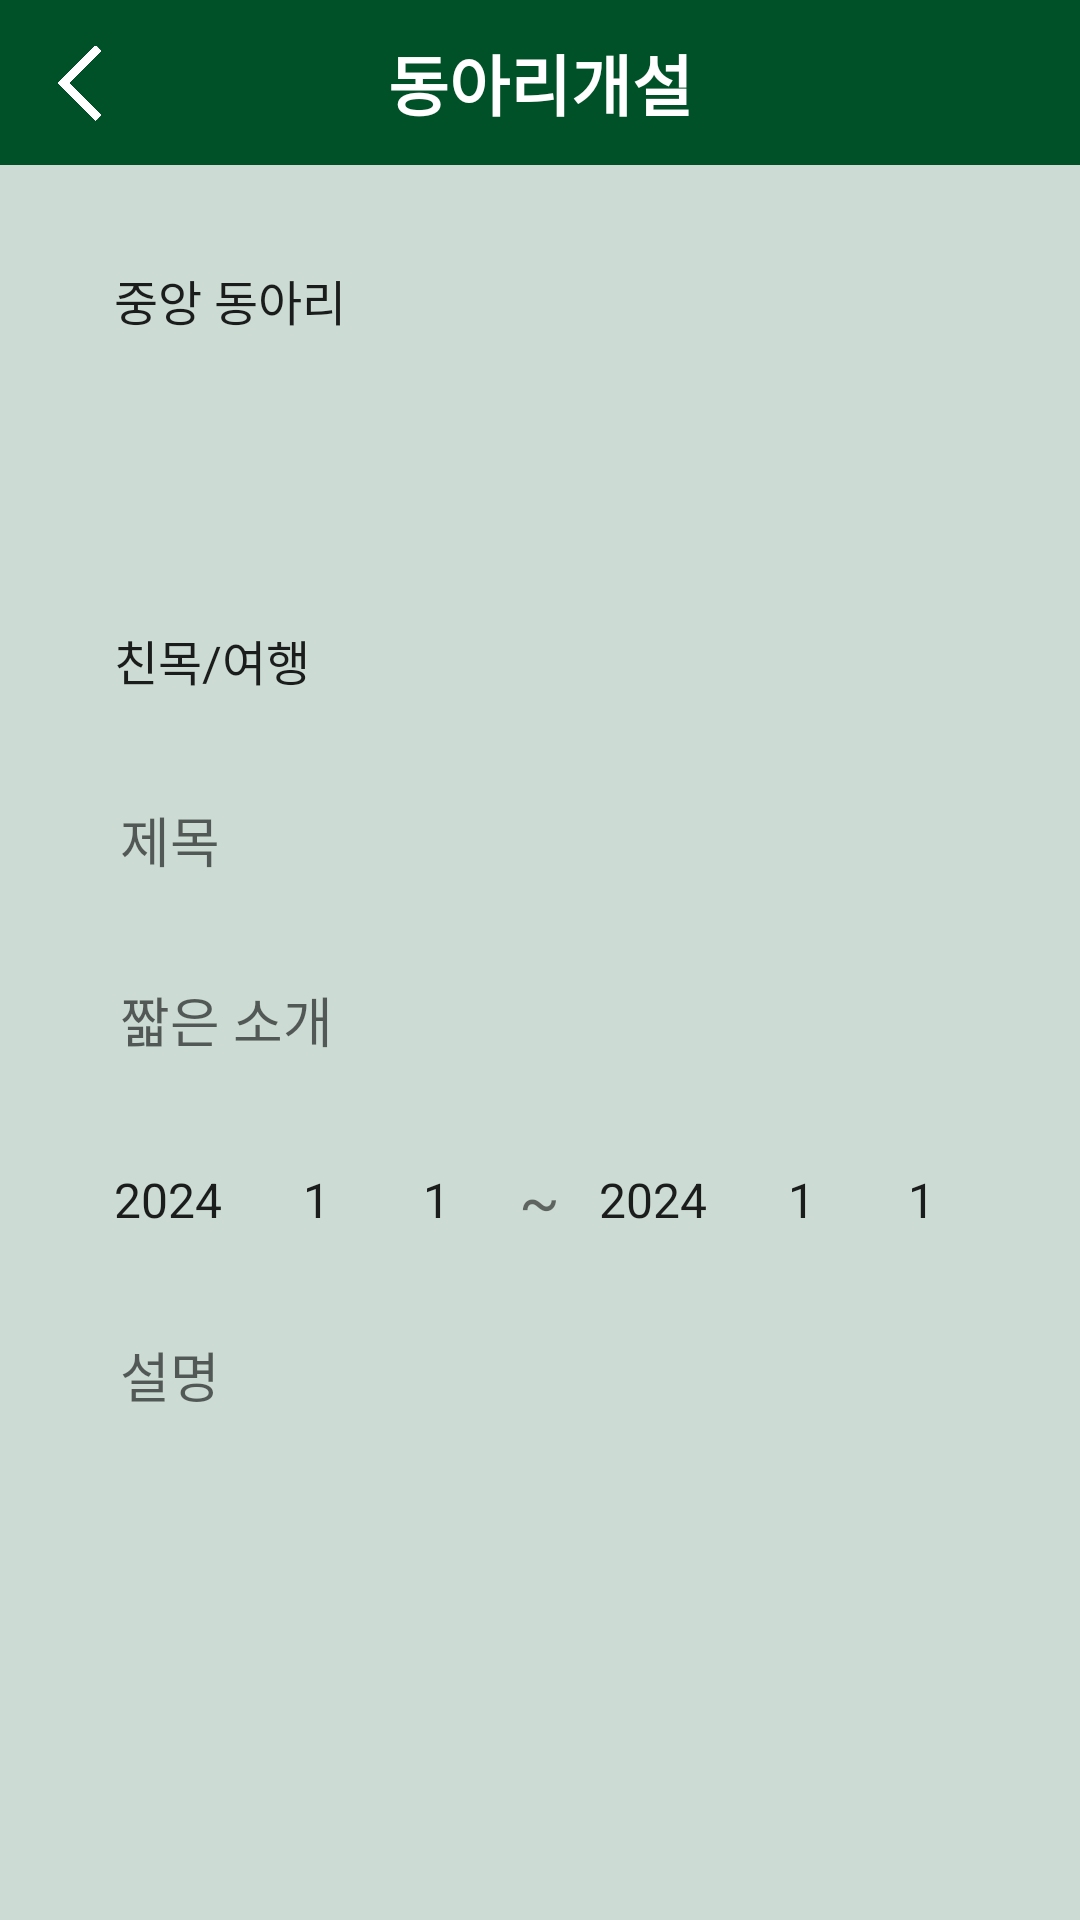

Icons on this 1080 x 1920 Android screen, each with its box as {"left": x1, "top": y1, "right": x2, "bottom": y2}:
backward: {"left": 58, "top": 46, "right": 101, "bottom": 121}
